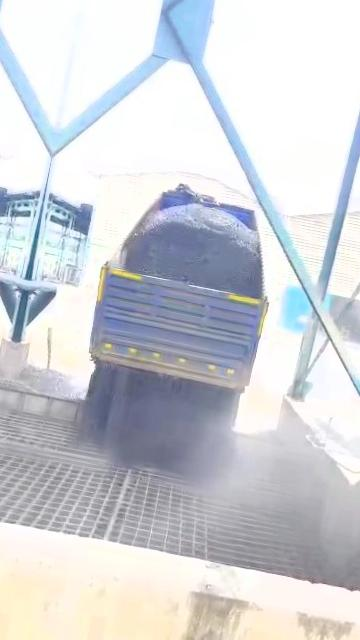gravel: (83, 360, 241, 466), (123, 203, 262, 298), (6, 366, 87, 399)
